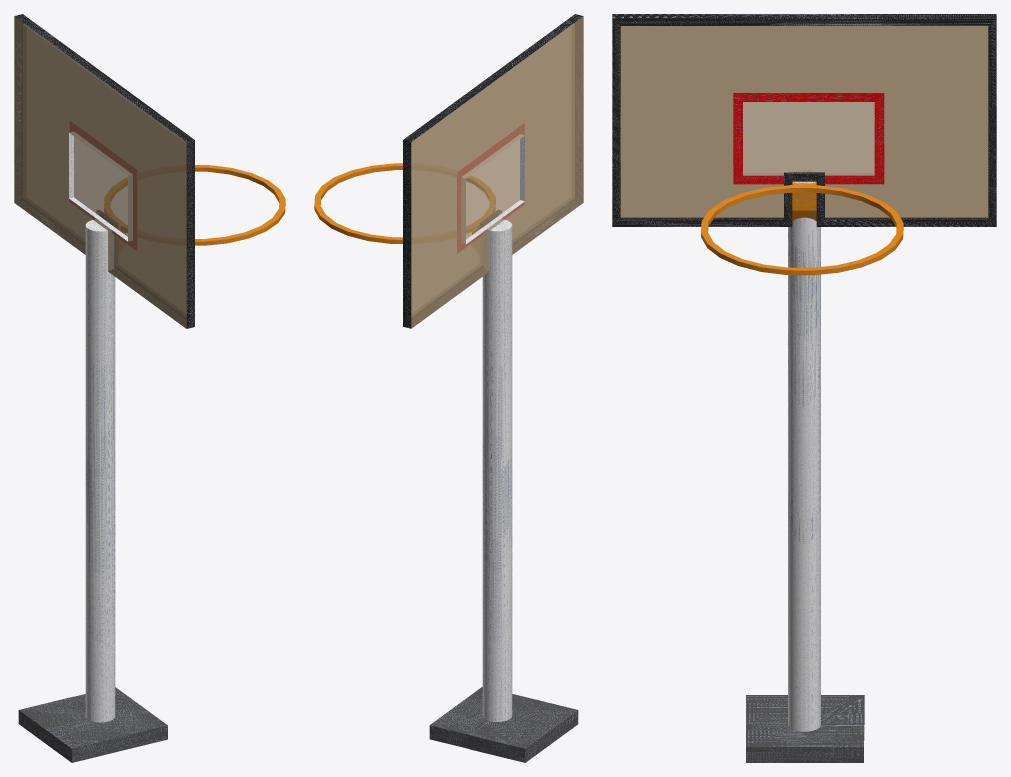
The picture shows the model from 3 angles, left to right: view 1: azimuth 30°, elevation 25°; view 2: azimuth 150°, elevation 25°; view 3: azimuth 270°, elevation 25°; orthographic projection. The views are drawn at different scales.
Visible parts, largest first — view 1: SketchUp (×10); view 2: SketchUp (×10); view 3: SketchUp (×11).
Boxes of the visible parts, bbox=[...] form: SketchUp (×10): bbox=[14, 14, 285, 762]; SketchUp (×10): bbox=[314, 14, 583, 762]; SketchUp (×11): bbox=[612, 14, 996, 762].
Size of the model in its own units: 953 by 1254 by 2615.
